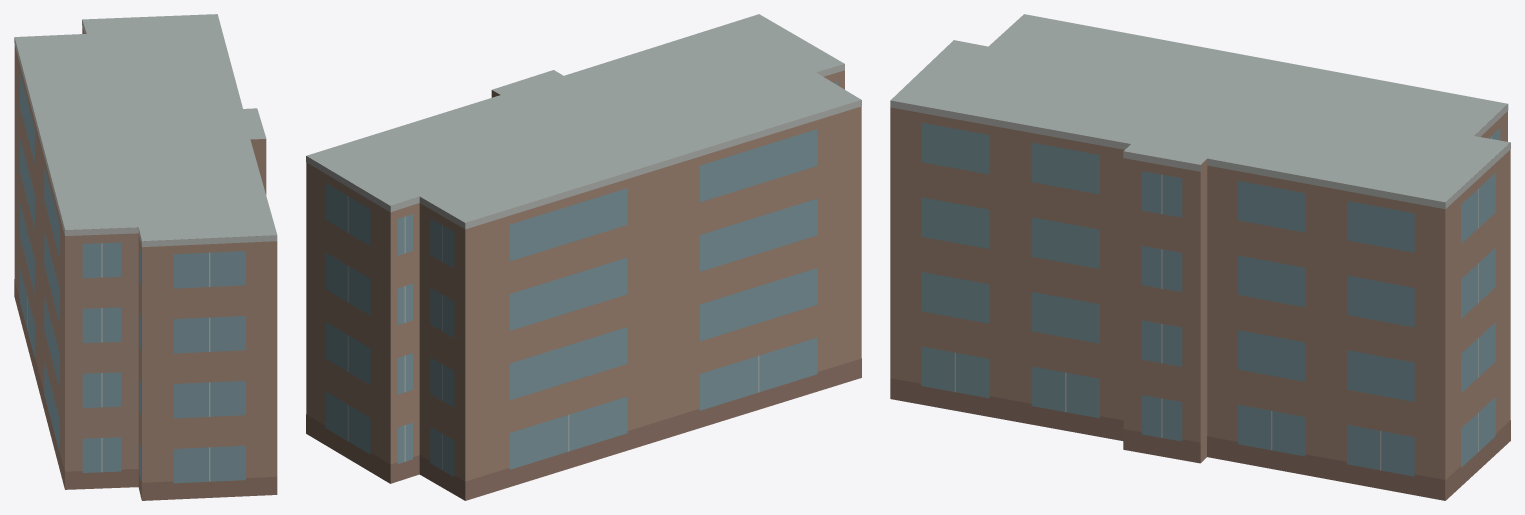
File: survey-upis-32523512.glb
3 views of the same model, side by side, from view 1: azimuth 30°, elevation 25°; view 2: azimuth 150°, elevation 25°; view 3: azimuth 270°, elevation 25° (orthographic). The views are drawn at different scales.
Visible parts, largest first — view 1: survey-upis-32523512.tmp; view 2: survey-upis-32523512.tmp; view 3: survey-upis-32523512.tmp.
Part boxes in pixels (<box>): survey-upis-32523512.tmp: <box>14,14,277,500</box>; survey-upis-32523512.tmp: <box>306,14,861,500</box>; survey-upis-32523512.tmp: <box>890,14,1510,500</box>.
Size of the model in its own units: 14.29 by 10.55 by 19.88.
